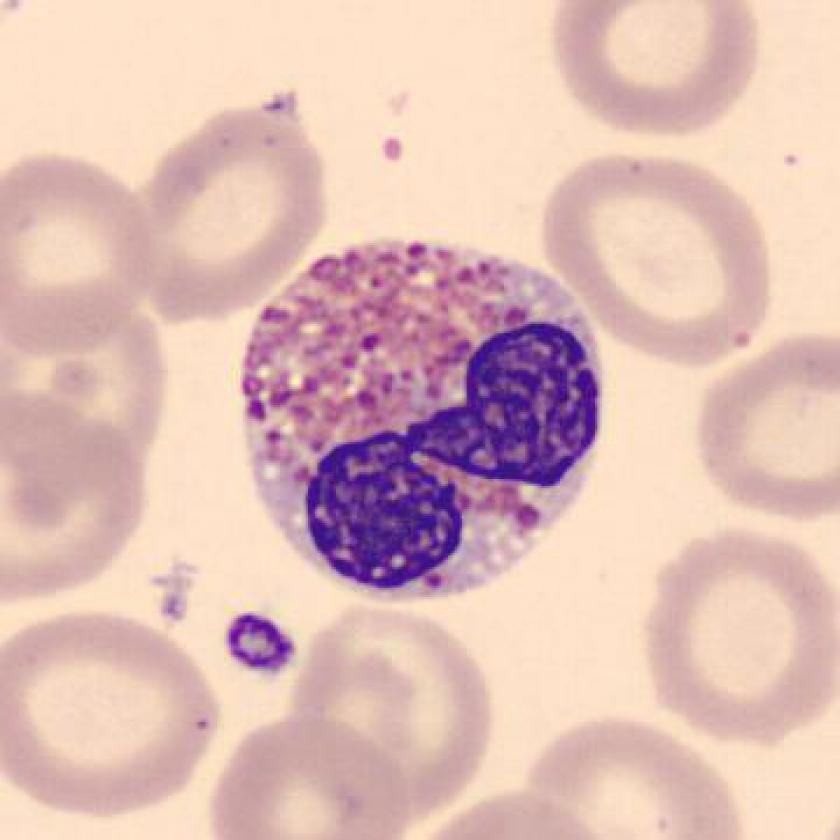eosinophil: (230, 221, 617, 612)
